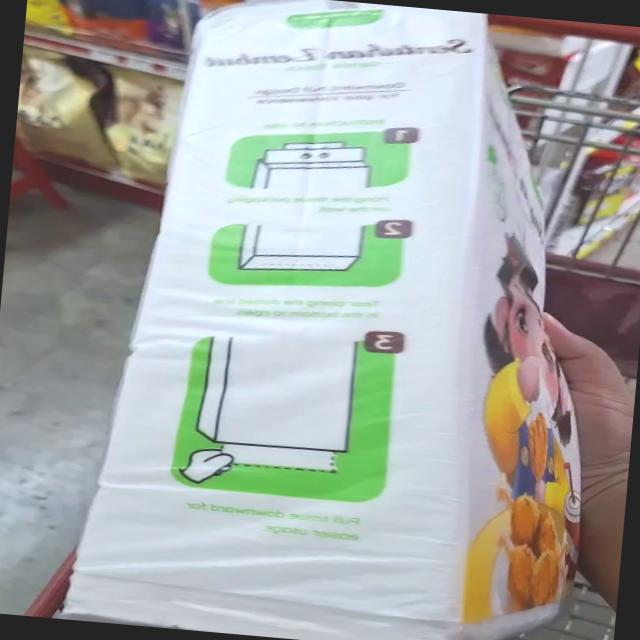Tisu: (30, 274, 603, 640), (134, 0, 549, 332)
